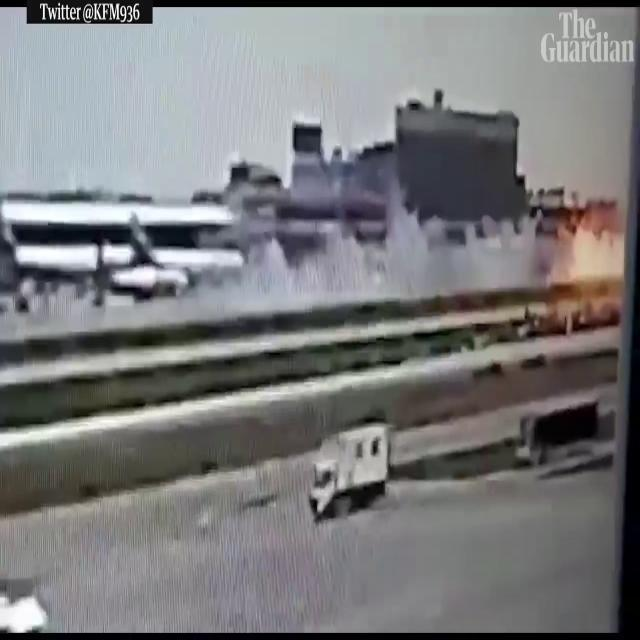Fire: (539, 210, 623, 304)
Smoke: (351, 168, 543, 306)
